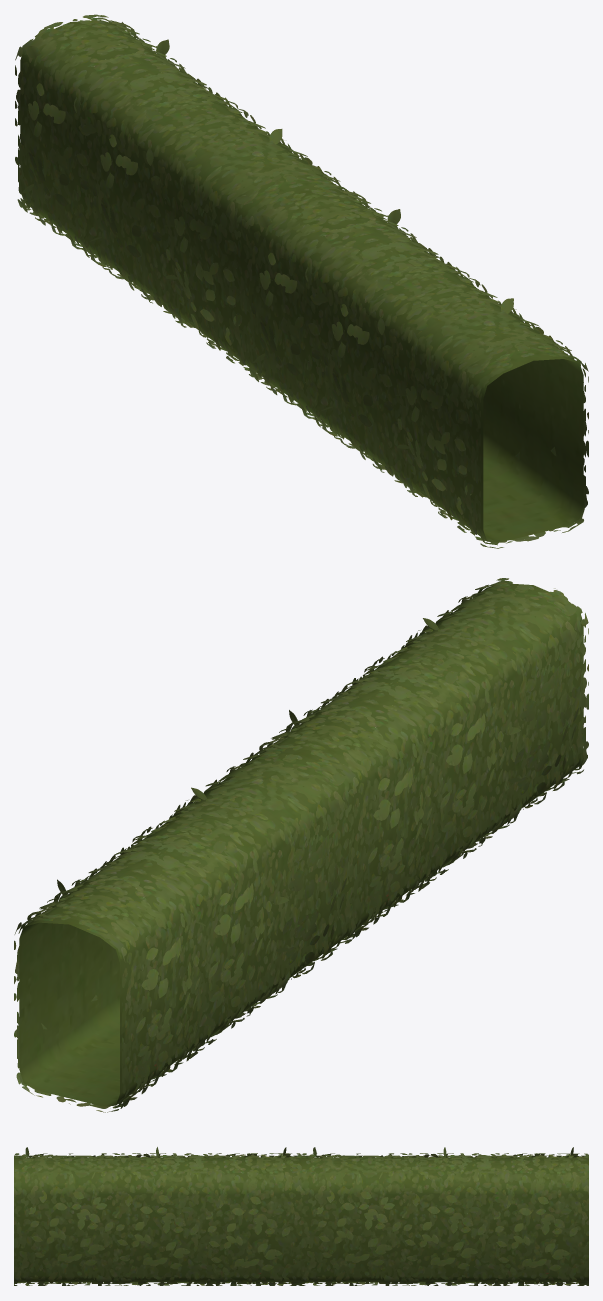
3 views of the same model, one above another, from view 1: azimuth 30°, elevation 25°; view 2: azimuth 150°, elevation 25°; view 3: azimuth 270°, elevation 25° (orthographic). The views are drawn at different scales.
Visible parts, largest first — view 1: body0_model0_lod0_mesh0; view 2: body0_model0_lod0_mesh0; view 3: body0_model0_lod0_mesh0.
Part boxes in pixels (box(x1,y1,x2,y2)): body0_model0_lod0_mesh0: box(15, 14, 588, 548); body0_model0_lod0_mesh0: box(14, 578, 588, 1112); body0_model0_lod0_mesh0: box(14, 1147, 588, 1285).
Size of the model in its own units: 45.19 by 59.69 by 256.
Materials: 1 (1 with a texture image).
